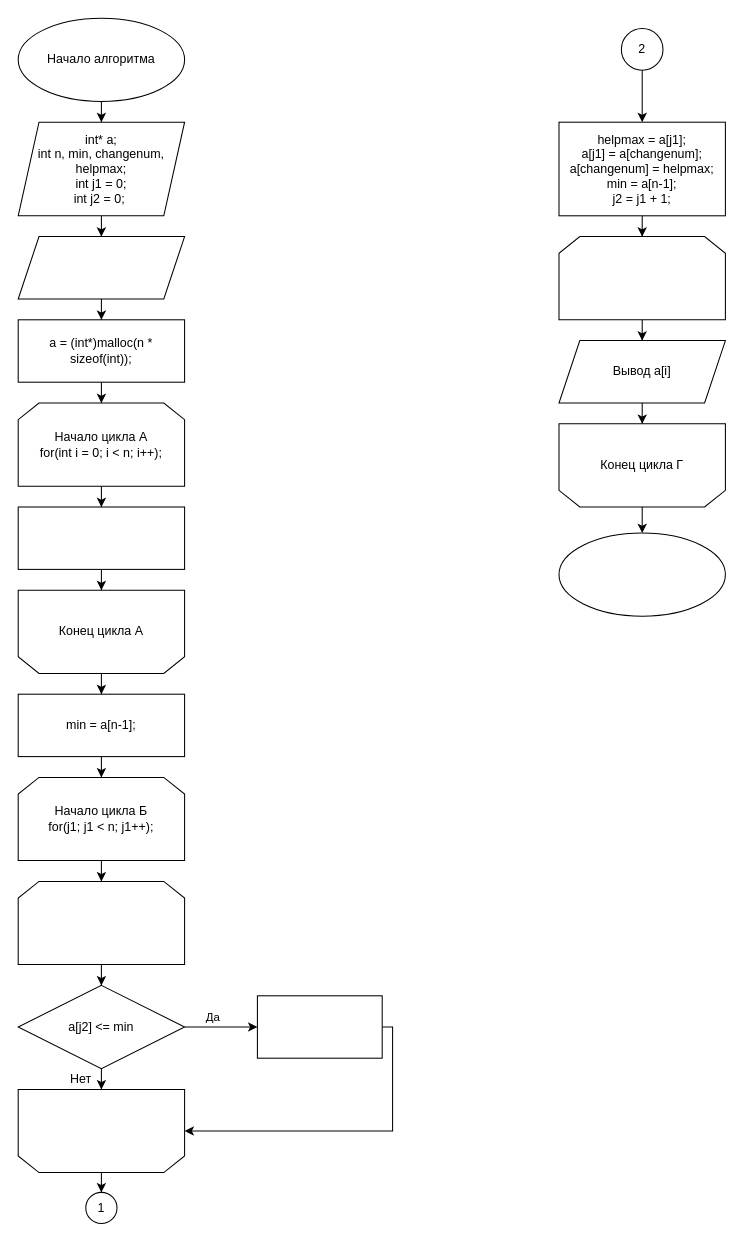
The diagram is 744 pixels wide and 1242 high, and some of its shapes have lost their labels. The box of each missing label's shape, as (x1, y1, x2, y2) in pixels:
a[i] = rand();: (17, 506, 185, 569)
min = a[j2]; changenum = j2;: (256, 995, 382, 1058)
Ввод n: (17, 236, 185, 299)
Конец алгоритма: (558, 532, 725, 616)
Конец цикла В: (17, 1088, 185, 1173)
Начало цикла В for(j2; j2 < n; j2++);: (17, 880, 185, 965)
Начало цикла Г for (int i = 0; i < n; i++);: (558, 236, 725, 320)
